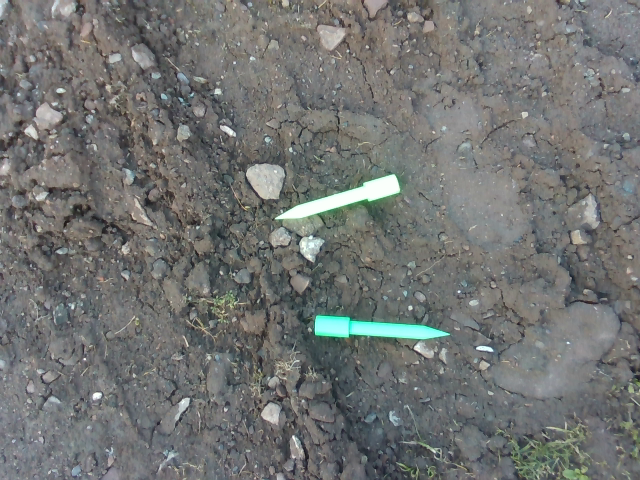Probe: (271, 169, 405, 229), (310, 309, 458, 347)
